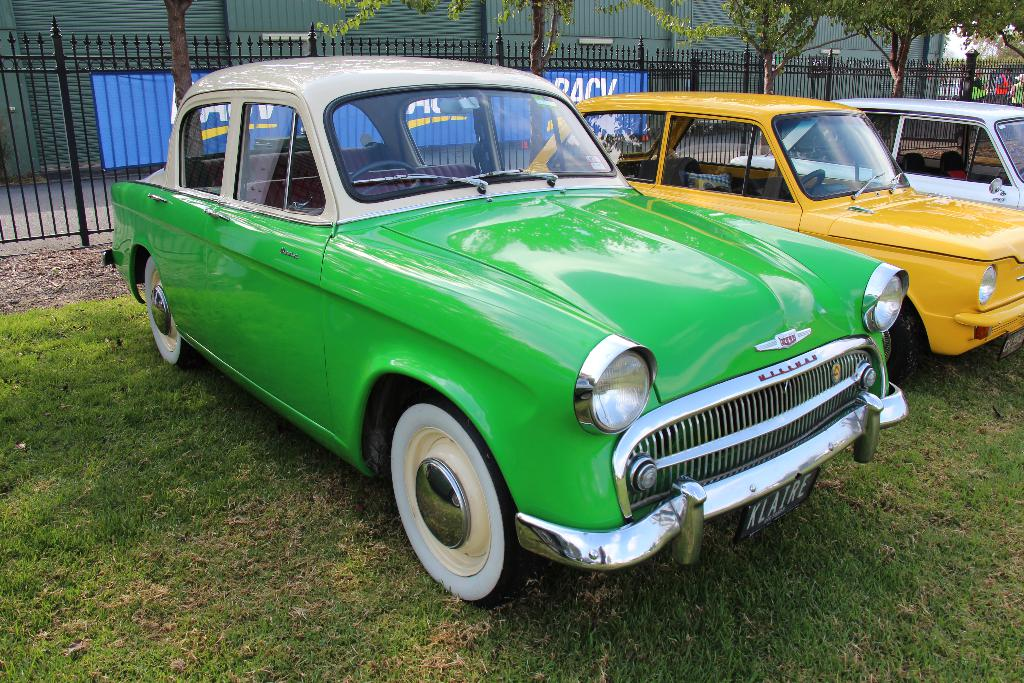mobil: (121, 64, 906, 603)
